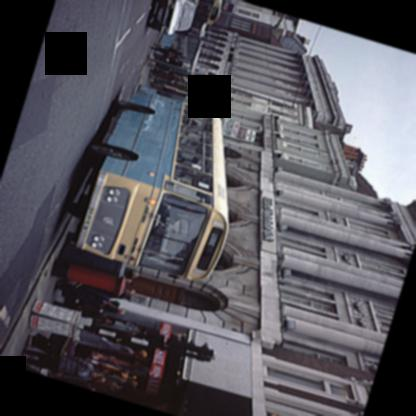backpack: (163, 51, 176, 57)
handbag: (66, 280, 80, 286), (152, 42, 163, 46)
suitcase: (26, 332, 54, 353)
